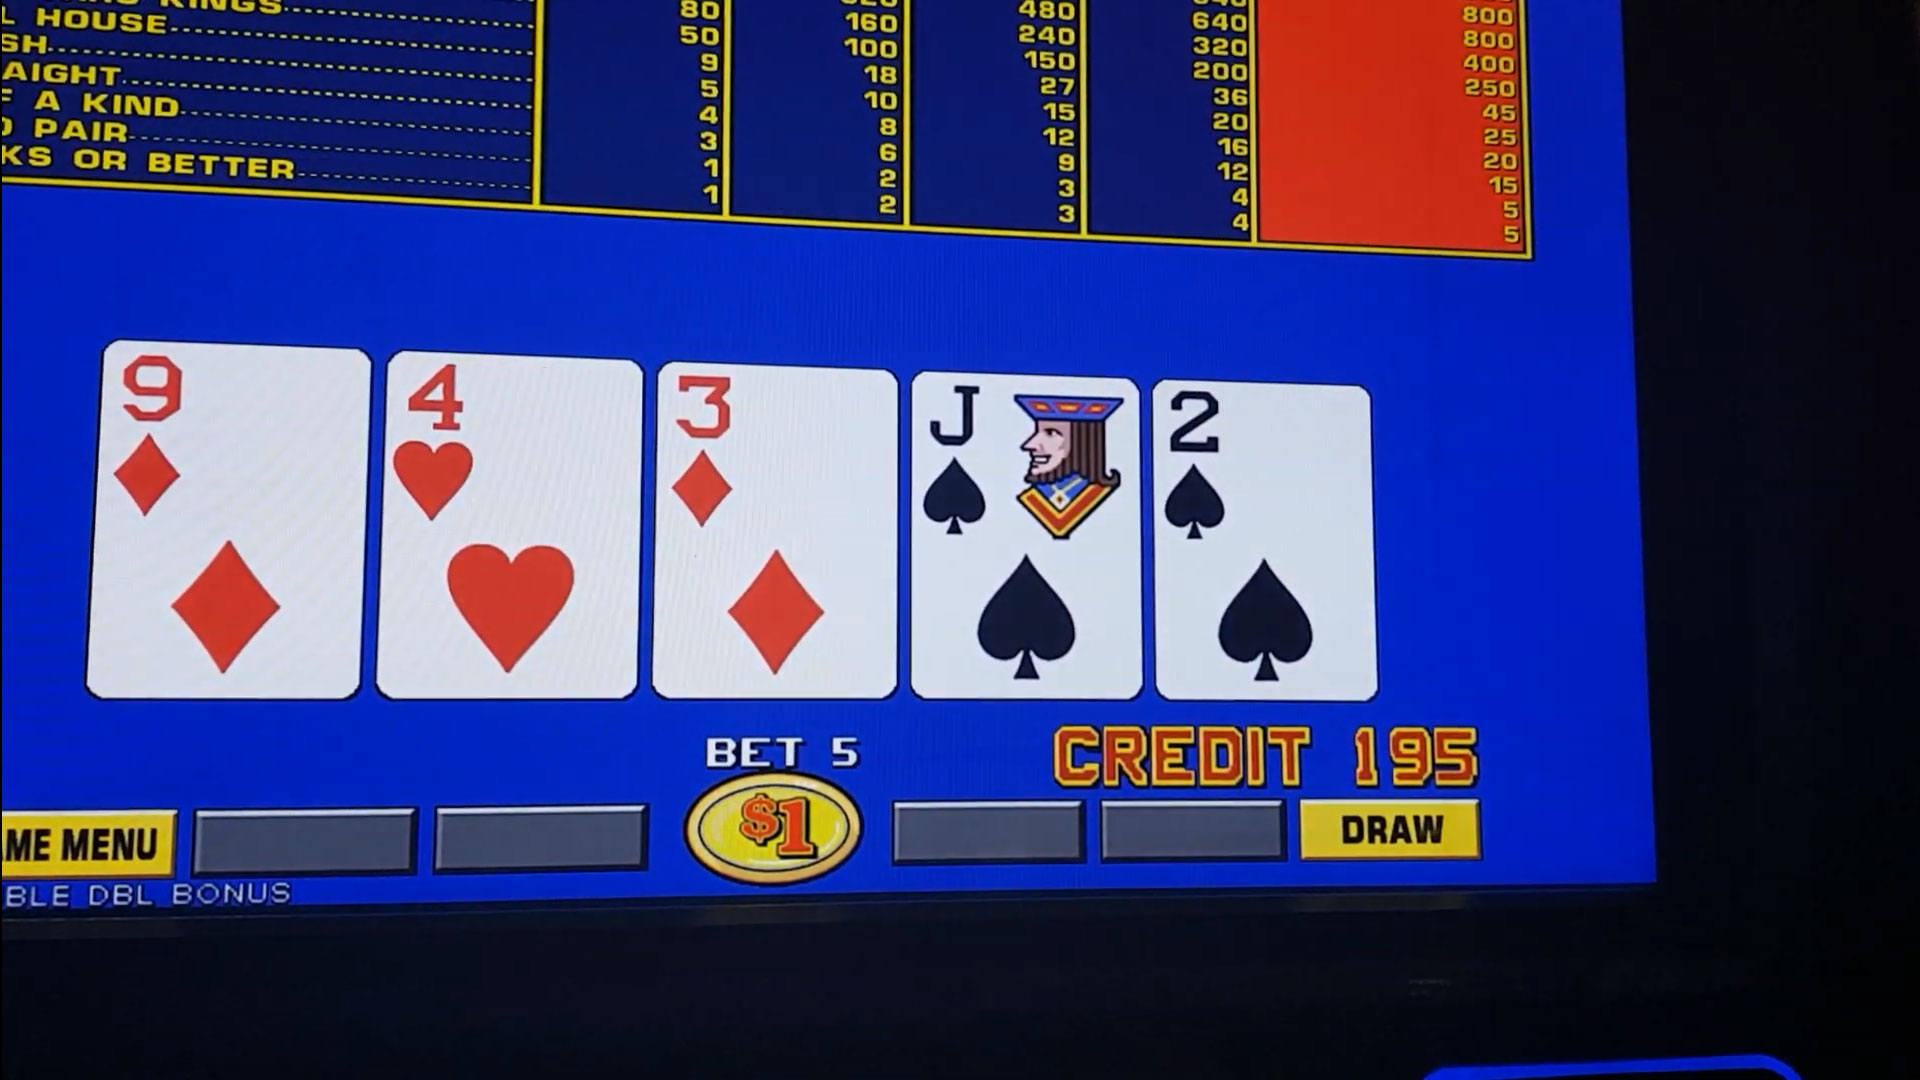D3: (665, 375, 894, 541)
D9: (105, 349, 368, 527)
H4: (392, 363, 637, 535)
S2: (1156, 386, 1371, 550)
SJ: (913, 375, 1127, 551)
